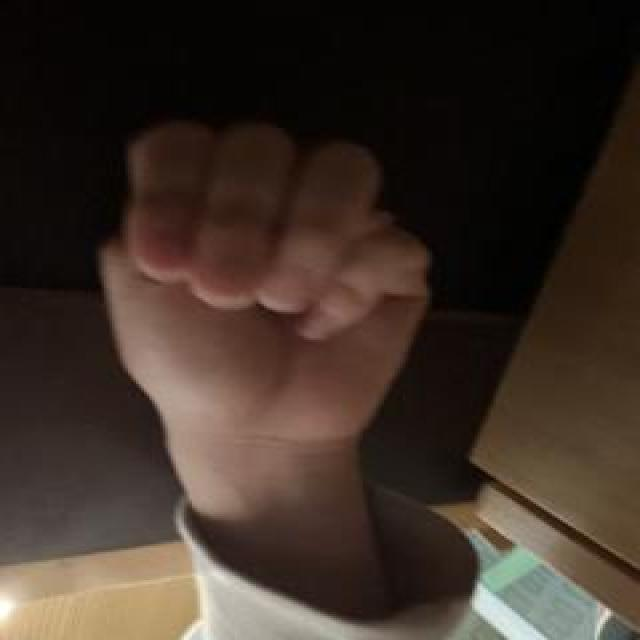M: (92, 111, 444, 457)
